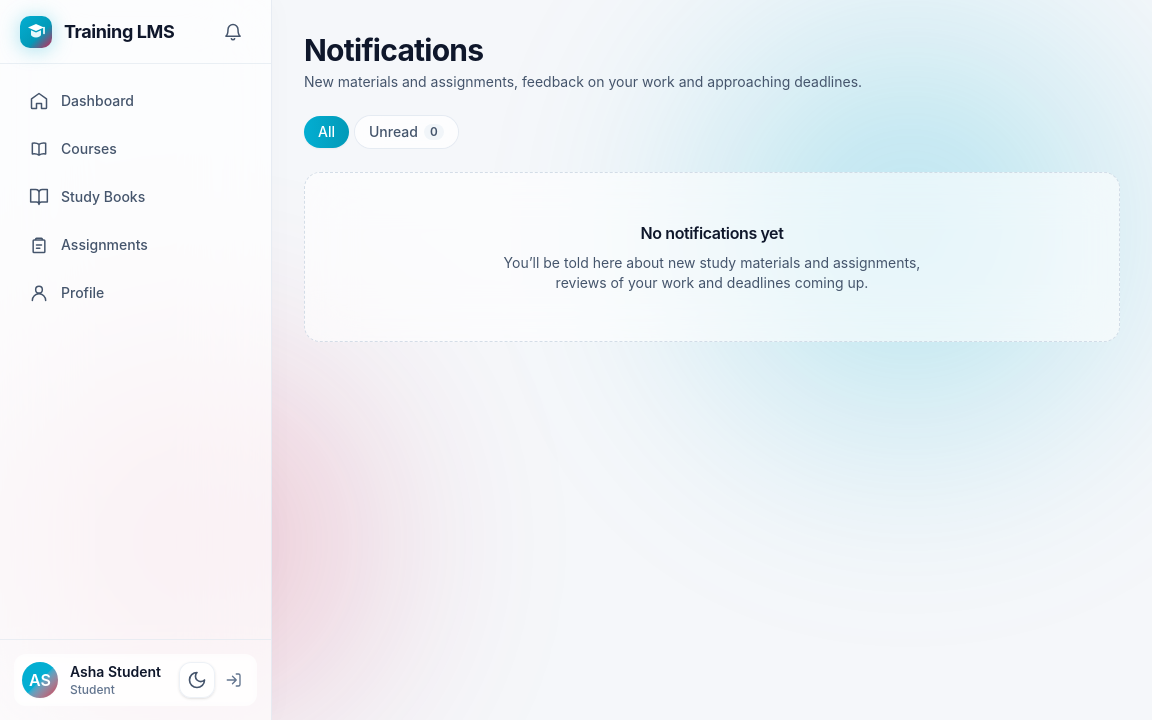
Scenario: NotificationsPage › explains an empty list and an error
Expected: the heading "No notifications yet" is shown, x1=641 y1=223 x2=784 y2=243
Click the button "Unread 0" at (406, 132), box x1=355 y1=116 x2=458 y2=148
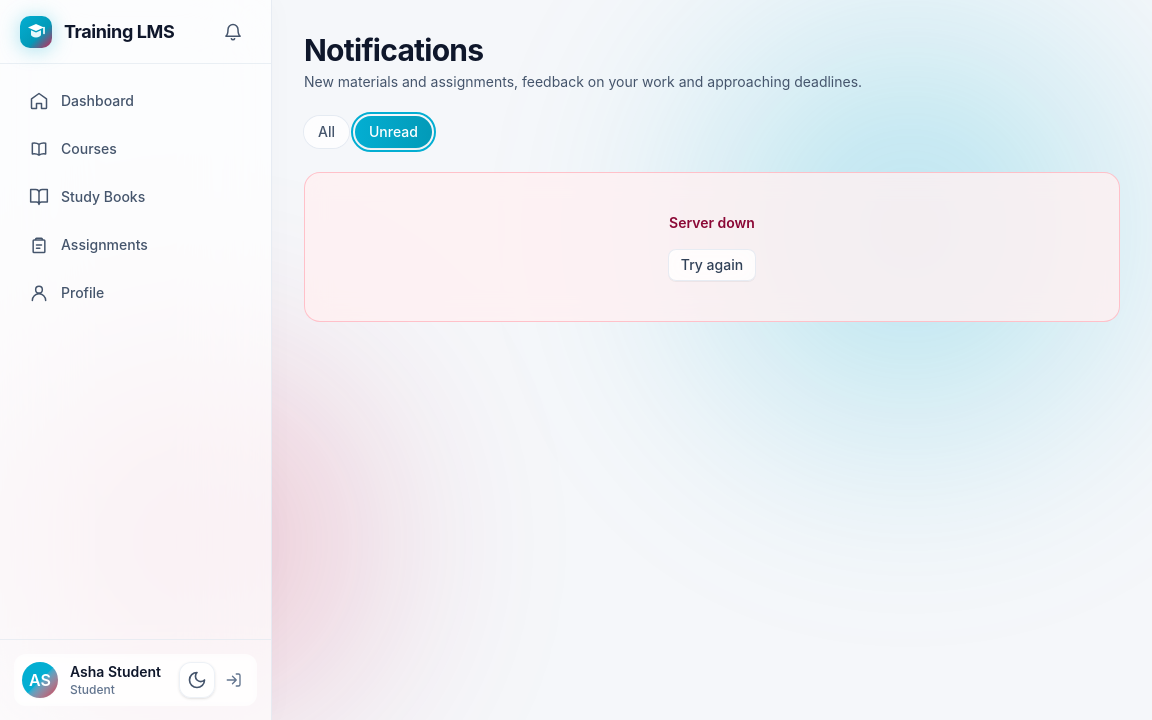
Expected: the text "Server down" is shown, x1=669 y1=214 x2=755 y2=231
Click the button "Try again" at (712, 265), box x1=668 y1=249 x2=756 y2=281
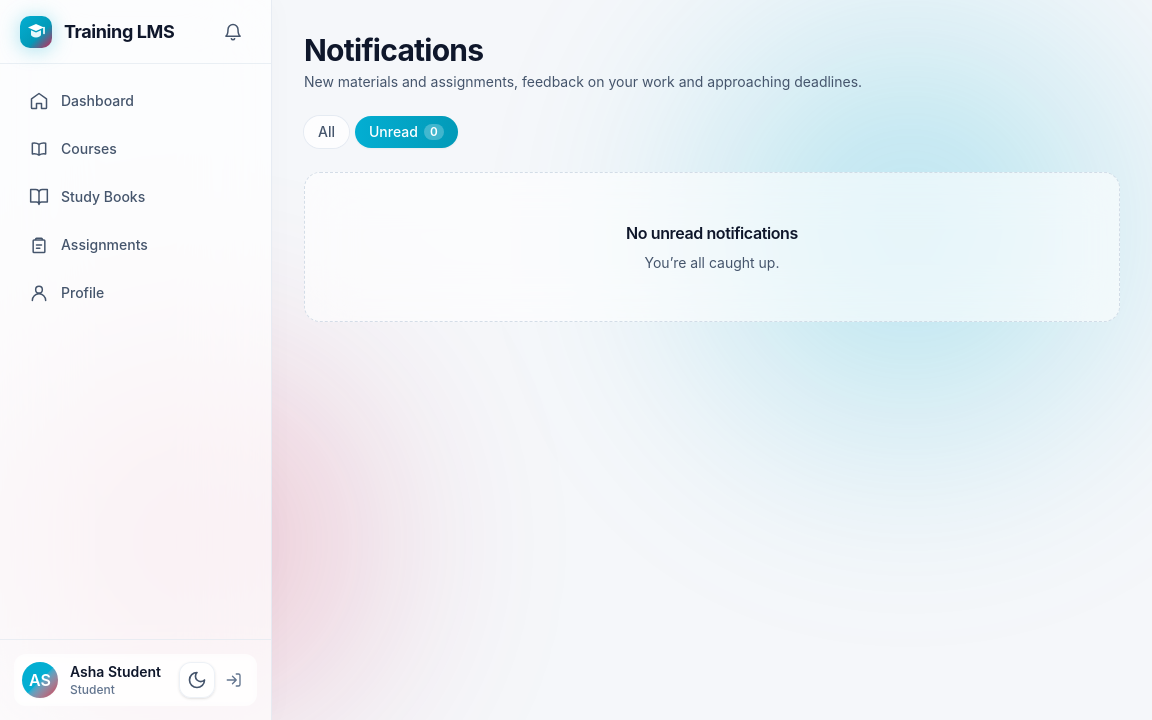
Expected: the heading "No unread notifications" is shown, x1=626 y1=223 x2=798 y2=243
